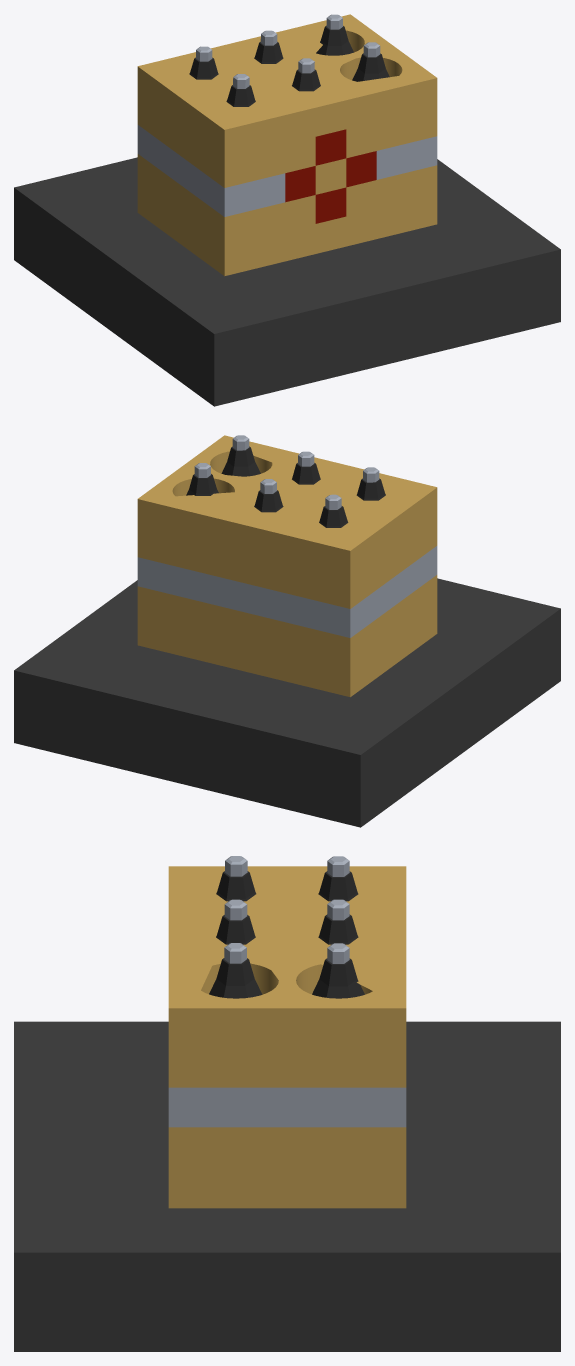
File: Rocket Launcher Tower.fbx
The picture shows the model from 3 angles, top to bottom: view 1: azimuth 30°, elevation 25°; view 2: azimuth 150°, elevation 25°; view 3: azimuth 270°, elevation 25°; orthographic projection. The views are drawn at different scales.
Parts seen in each view (by area): view 1: Tower Base, Head, Rockets.003, Rockets.004, Rockets.001, Rockets.002, Rockets.005, Rockets; view 2: Tower Base, Head, Rockets.004, Rockets.003, Rockets.002, Rockets, Rockets.001, Rockets.005; view 3: Tower Base, Head, Rockets.004, Rockets.003, Rockets.002, Rockets, Rockets.005, Rockets.001.
Part boxes in pixels (x1,y1,x2,y2): Tower Base: (14,157,560,406); Head: (137,14,437,276); Rockets.003: (316,14,353,55); Rockets.004: (352,42,389,81); Rockets.001: (189,46,218,79); Rockets.002: (254,30,283,63); Rockets.005: (292,58,320,91); Rockets: (226,74,255,106); Tower Base: (14,578,560,827); Head: (137,435,437,697); Rockets.004: (221,435,260,476); Rockets.003: (186,463,218,495); Rockets.002: (254,479,283,512); Rockets: (356,467,385,500); Rockets.001: (319,494,348,527); Rockets.005: (292,451,320,484); Tower Base: (14,1021,560,1351); Head: (168,866,406,1208); Rockets.004: (209,943,262,998); Rockets.003: (312,943,364,998); Rockets.002: (318,899,358,944); Rockets: (216,856,256,901); Rockets.005: (216,899,255,944); Rockets.001: (318,856,358,901).
Bounding box in the file's own units: 100 × 67.43 × 100.
